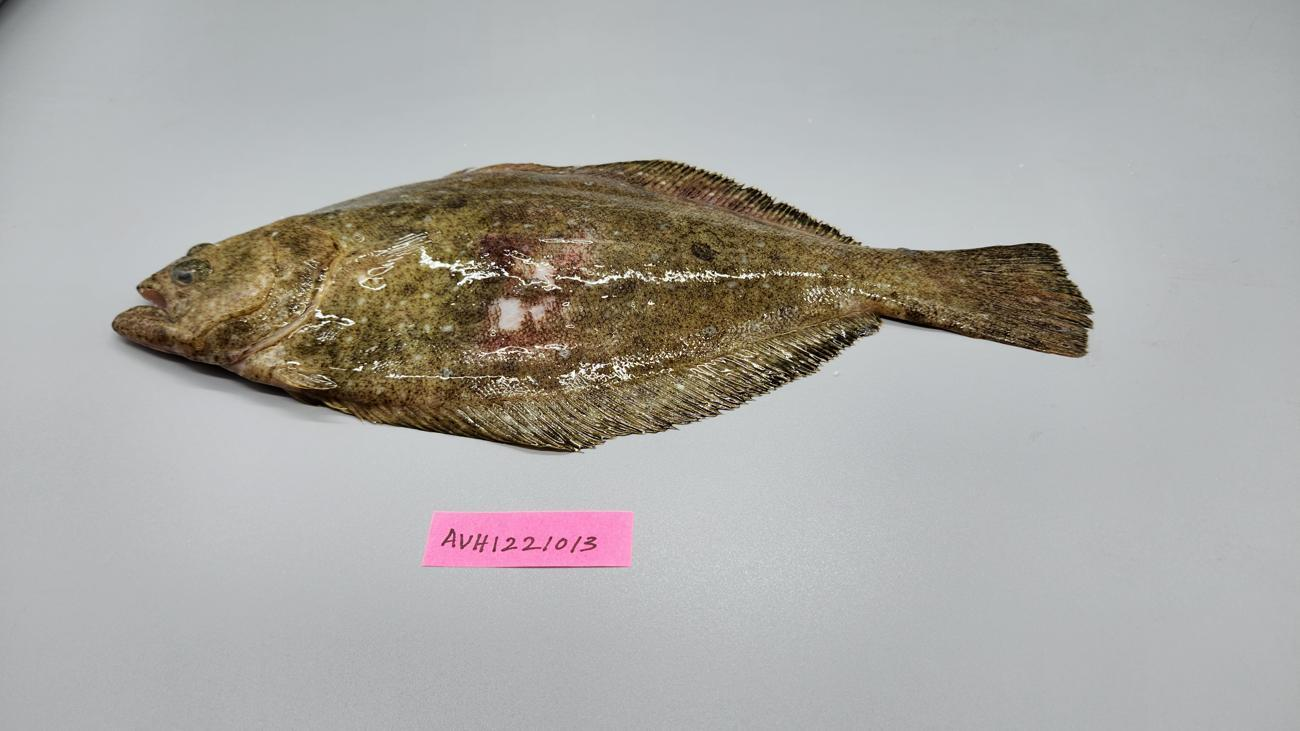VIDYH: (476, 234, 596, 351), (333, 375, 459, 405), (492, 205, 569, 225)
VIDYU: (493, 295, 557, 337), (521, 255, 561, 282)
VIFCH: (972, 247, 1095, 332)
VIOUY: (110, 161, 1095, 449)
